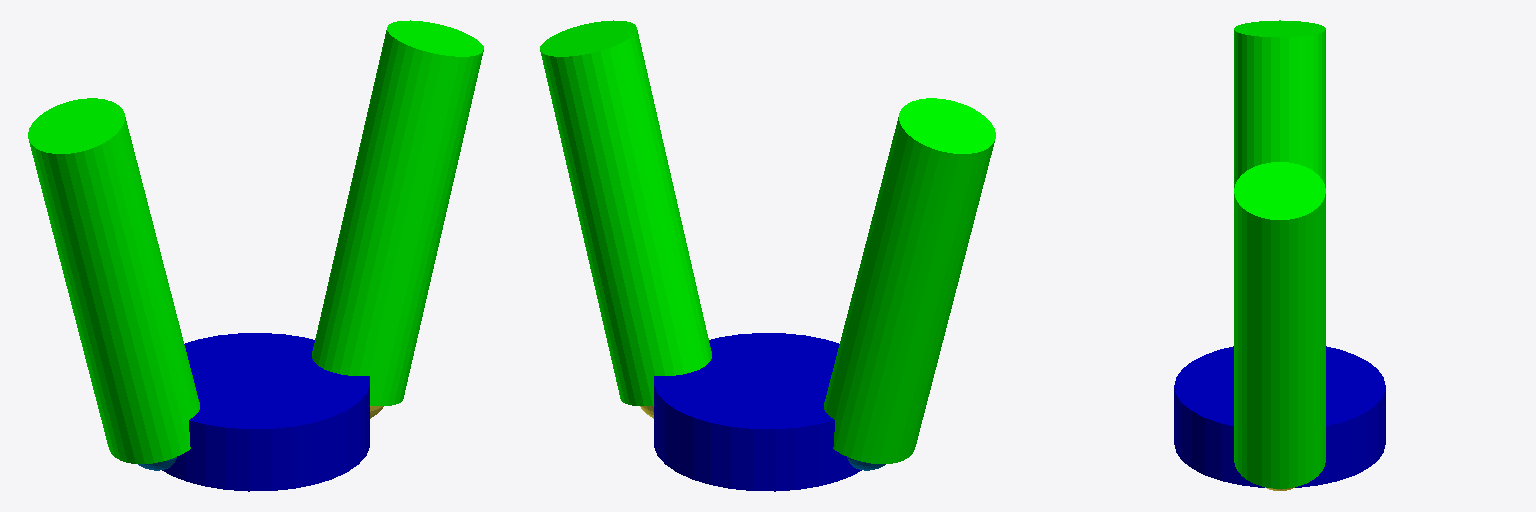
URDF robot description (gripper_2f_1j):
<?xml version='1.0' encoding='UTF-8'?>
<robot name="gripper_2f_1j">
  <link name="palm">
    <inertial>
      <origin xyz="0.0 0.0 0.0" rpy="0.0 -0.0 0.0"/>
      <mass value="1.0"/>
      <inertia ixx="1.0" ixy="0.0" ixz="0.0" iyy="1.0" iyz="0.0" izz="1.0"/>
    </inertial>
    <visual>
      <geometry>
        <cylinder radius="0.05" length="0.03"/>
      </geometry>
      <material name="blue"/>
      <origin xyz="0.0 0.0 0.0" rpy="0.0 -0.0 0.0"/>
    </visual>
    <collision>
      <geometry>
        <cylinder radius="0.05" length="0.03"/>
      </geometry>
      <origin xyz="0.0 0.0 0.0" rpy="0.0 0.0 0.0"/>
    </collision>
  </link>
  <link name="f11">
    <inertial>
      <origin xyz="0.0 0.0 0.0" rpy="0.0 -0.0 0.0"/>
      <mass value="1.0"/>
      <inertia ixx="1.0" ixy="0.0" ixz="0.0" iyy="1.0" iyz="0.0" izz="1.0"/>
    </inertial>
    <visual>
      <geometry>
        <cylinder radius="0.021730822336329614" length="0.16417748583675307"/>
      </geometry>
      <material name="green"/>
      <origin xyz="0.0 0.0 0.08208874291837653" rpy="0.0 -0.0 0.0"/>
    </visual>
    <collision>
      <geometry>
        <cylinder radius="0.021730822336329614" length="0.16417748583675307"/>
      </geometry>
      <origin xyz="0.0 0.0 0.05" rpy="0.0 0.0 0.0"/>
    </collision>
  </link>
  <link name="f21">
    <inertial>
      <origin xyz="0.0 0.0 0.0" rpy="0.0 -0.0 0.0"/>
      <mass value="1.0"/>
      <inertia ixx="1.0" ixy="0.0" ixz="0.0" iyy="1.0" iyz="0.0" izz="1.0"/>
    </inertial>
    <visual>
      <geometry>
        <cylinder radius="0.021730822336329614" length="0.16417748583675307"/>
      </geometry>
      <material name="green"/>
      <origin xyz="0.0 0.0 0.08208874291837653" rpy="0.0 -0.0 0.0"/>
    </visual>
    <collision>
      <geometry>
        <cylinder radius="0.021730822336329614" length="0.16417748583675307"/>
      </geometry>
      <origin xyz="0.0 0.0 0.05" rpy="0.0 0.0 0.0"/>
    </collision>
  </link>
  <link name="f11_base">
    <inertial>
      <origin xyz="0.0 0.0 0.0" rpy="0.0 -0.0 0.0"/>
      <mass value="1.0"/>
      <inertia ixx="1.0" ixy="0.0" ixz="0.0" iyy="1.0" iyz="0.0" izz="1.0"/>
    </inertial>
    <visual>
      <geometry>
        <sphere radius="0.015"/>
      </geometry>
      <origin xyz="0.0 0.0 0.0" rpy="0.0 -0.0 0.0"/>
    </visual>
  </link>
  <link name="f21_base">
    <inertial>
      <origin xyz="0.0 0.0 0.0" rpy="0.0 -0.0 0.0"/>
      <mass value="1.0"/>
      <inertia ixx="1.0" ixy="0.0" ixz="0.0" iyy="1.0" iyz="0.0" izz="1.0"/>
    </inertial>
    <visual>
      <geometry>
        <sphere radius="0.015"/>
      </geometry>
      <origin xyz="0.0 0.0 0.0" rpy="0.0 -0.0 0.0"/>
    </visual>
  </link>
  <joint name="f11_joint" type="revolute">
    <dynamics damping="100.0" friction="1.0"/>
    <limit effort="30.0" velocity="2.0" lower="-0.6" upper="0.25"/>
    <parent link="f11_base"/>
    <child link="f11"/>
    <axis xyz="0. 1. 0."/>
    <origin xyz="0.0 0.0 0.0" rpy="0.0 0.25 0.0"/>
  </joint>
  <joint name="f21_joint" type="revolute">
    <dynamics damping="100.0" friction="1.0"/>
    <limit effort="30.0" velocity="2.0" lower="-0.6" upper="0.25"/>
    <parent link="f21_base"/>
    <child link="f21"/>
    <axis xyz=" 0. -1.  0."/>
    <origin xyz="0.0 0.0 0.0" rpy="0.0 -0.25 0.0"/>
  </joint>
  <joint name="f11_base_joint" type="fixed">
    <parent link="palm"/>
    <child link="f11_base"/>
    <axis xyz="1. 0. 0."/>
    <origin xyz="0.05 0.0 0.0" rpy="0.0 0.0 0.0"/>
  </joint>
  <joint name="f21_base_joint" type="fixed">
    <parent link="palm"/>
    <child link="f21_base"/>
    <axis xyz="1. 0. 0."/>
    <origin xyz="-0.05 -0.0 0.0" rpy="0.0 0.0 0.0"/>
  </joint>
  <material name="blue">
    <color rgba="0.  0.  0.8 1. "/>
  </material>
  <material name="green">
    <color rgba="0. 1. 0. 1."/>
  </material>
</robot>

--- What the picture shows (computed from the rendered views, not written in the file) ---
Views: 3 orthographic renders of the robot side by side, from view 1: azimuth 30°, elevation 25°; view 2: azimuth 150°, elevation 25°; view 3: azimuth 270°, elevation 25°.
Robot: gripper_2f_1j — 5 links, 4 joints (2 revolute, 2 fixed); root link palm; default pose: all joints at 0.
Links seen in each view (by area): view 1: f11, f21, palm; view 2: f11, f21, palm; view 3: f11, palm, f21.
Boxes of the visible links, left/top/right/bottom form: f11: left=312, top=20, right=483, bottom=405; f21: left=28, top=98, right=199, bottom=463; palm: left=162, top=333, right=369, bottom=491; f11: left=540, top=20, right=711, bottom=405; f21: left=824, top=98, right=995, bottom=463; palm: left=654, top=333, right=861, bottom=491; f11: left=1234, top=162, right=1325, bottom=488; palm: left=1174, top=346, right=1385, bottom=487; f21: left=1234, top=20, right=1325, bottom=187.
Bounding box of the posed robot: 0.2233 × 0.1 × 0.1794 m (x, y, z).
Geometry: primitives only (box / cylinder / sphere), no mesh files.